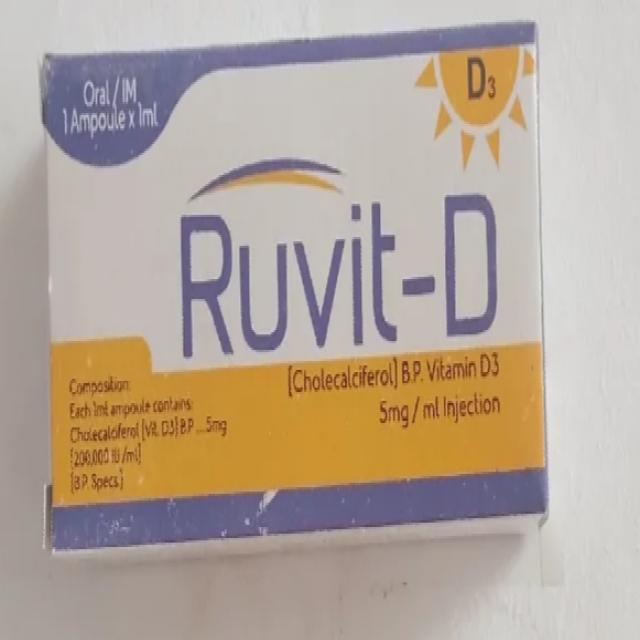drug-name: (178, 191, 506, 363)
